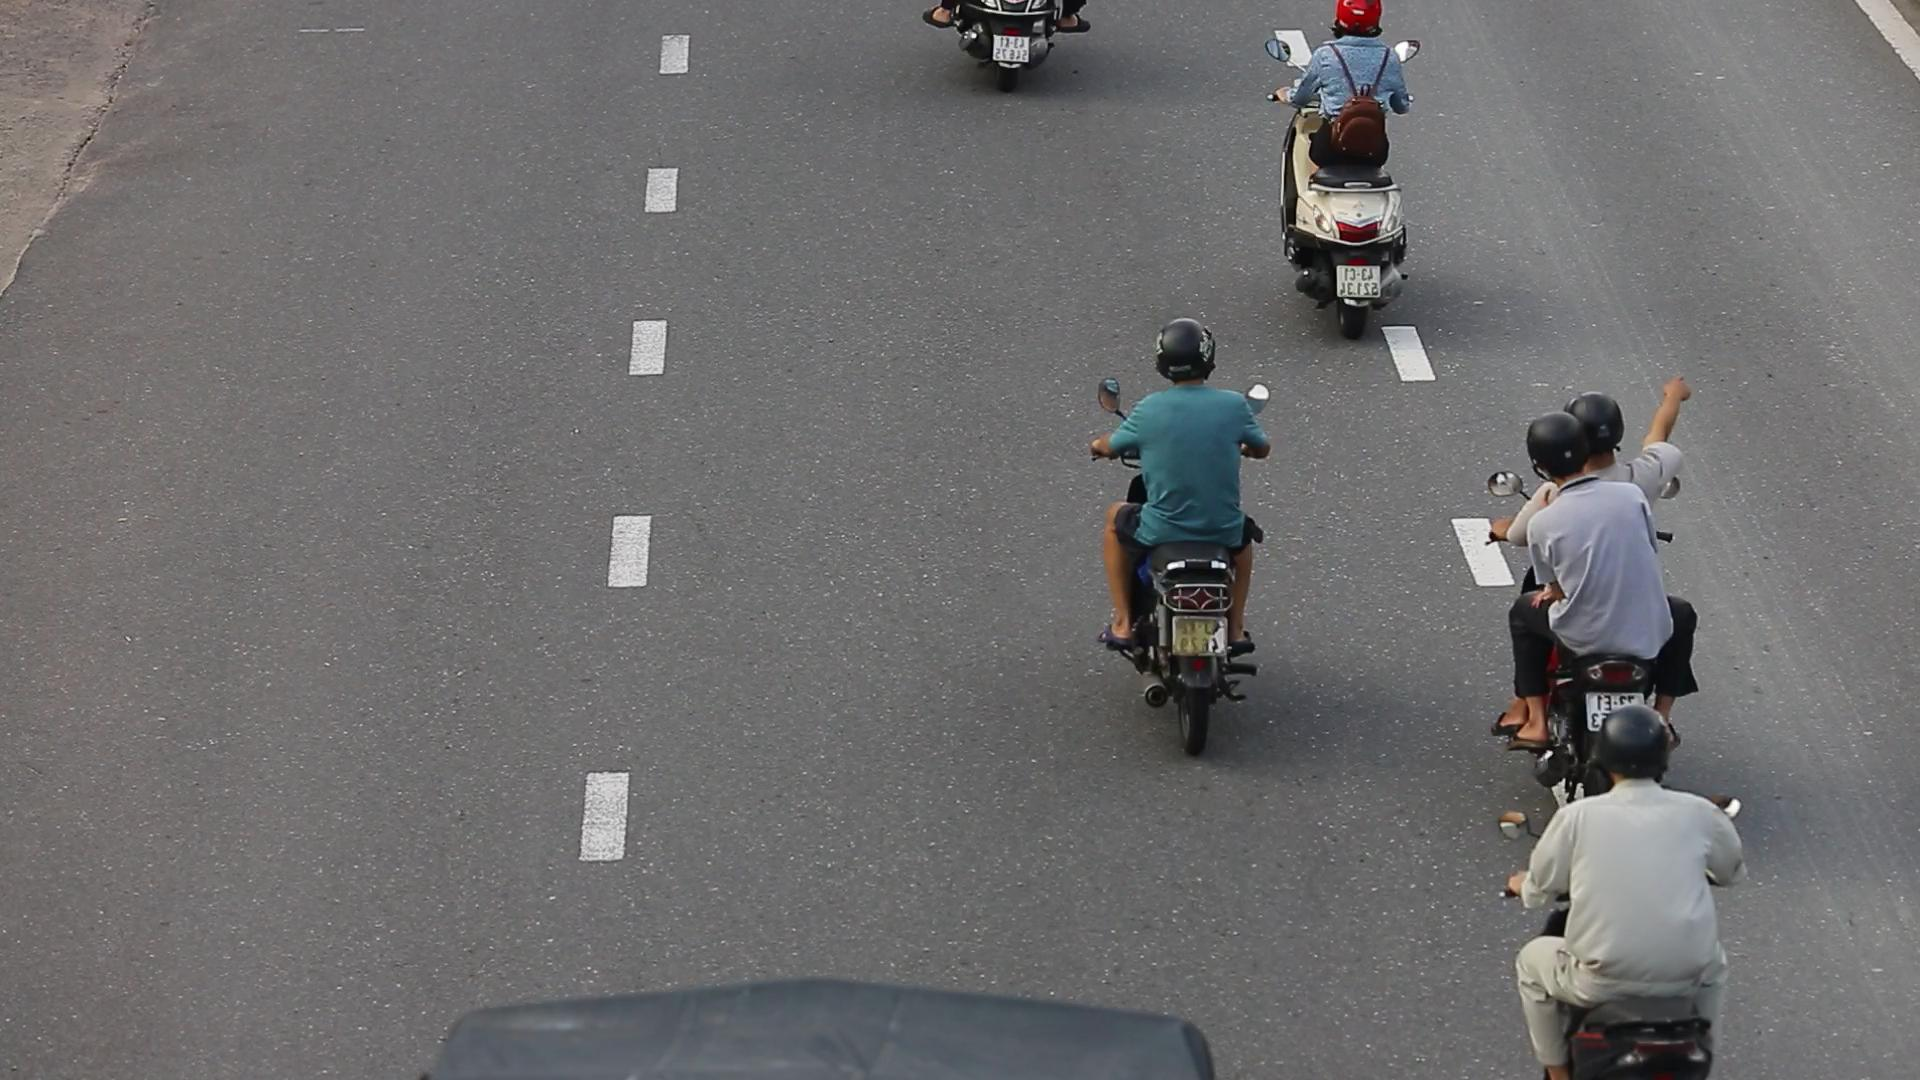motobike: (1080, 306, 1278, 750), (1253, 0, 1431, 334)
